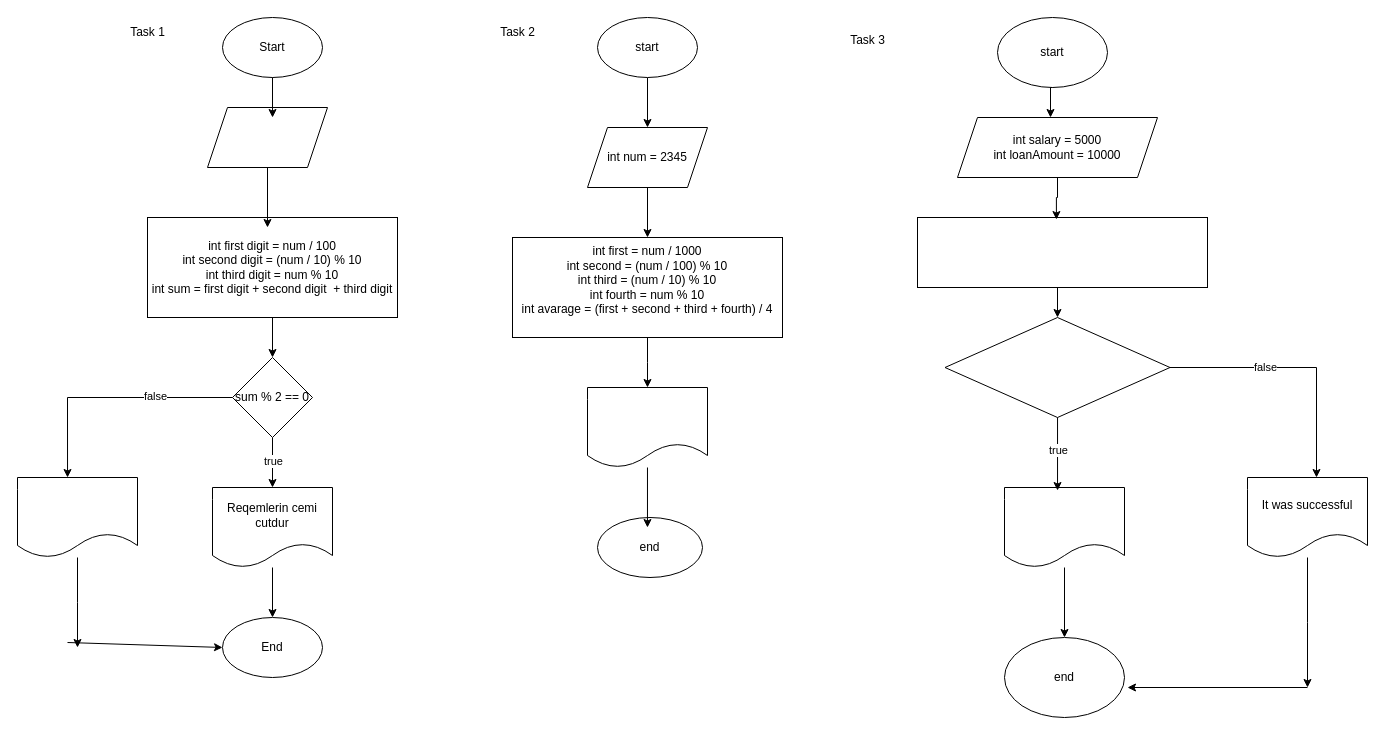
The diagram is 1385 pixels wide and 735 high, and some of its shapes have lost their labels. Each missing label, with the centre of its shape:
avarage: the point at 647,427
int anualIncome = salary * 12 float maxLoanAmount = anualIncome * 0.60f: the point at 1062,252
int num = 123: the point at 267,137
It was unsuccessful: the point at 1064,527
loanAmount > maxLoanAmount: the point at 1057,367
reqemlerin cemi tekdir: the point at 77,517
